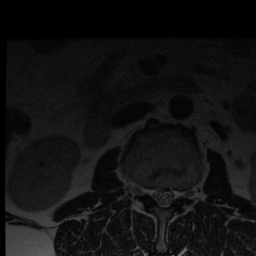CCS_stenosis: (158, 180, 166, 213)
LFS_stenosis: (176, 180, 185, 207)
LLS_normal: (166, 180, 175, 210)
RFS_stenosis: (139, 177, 149, 201)
RLS_normal: (148, 179, 158, 207)
